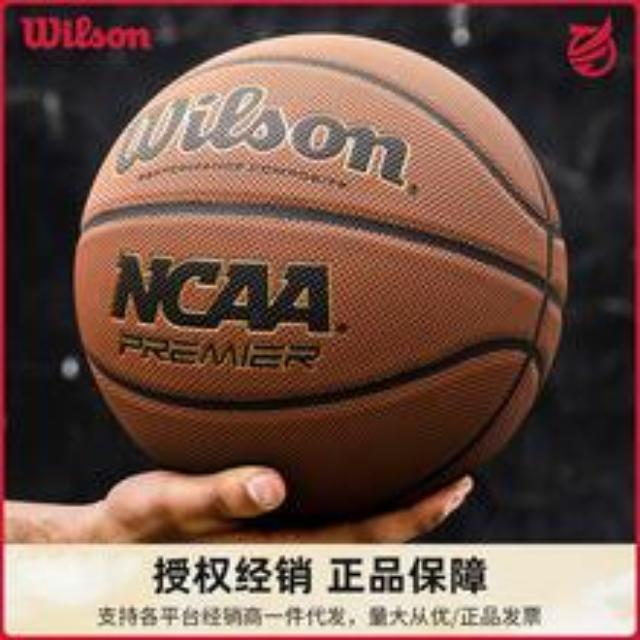basketball: (75, 34, 567, 516)
